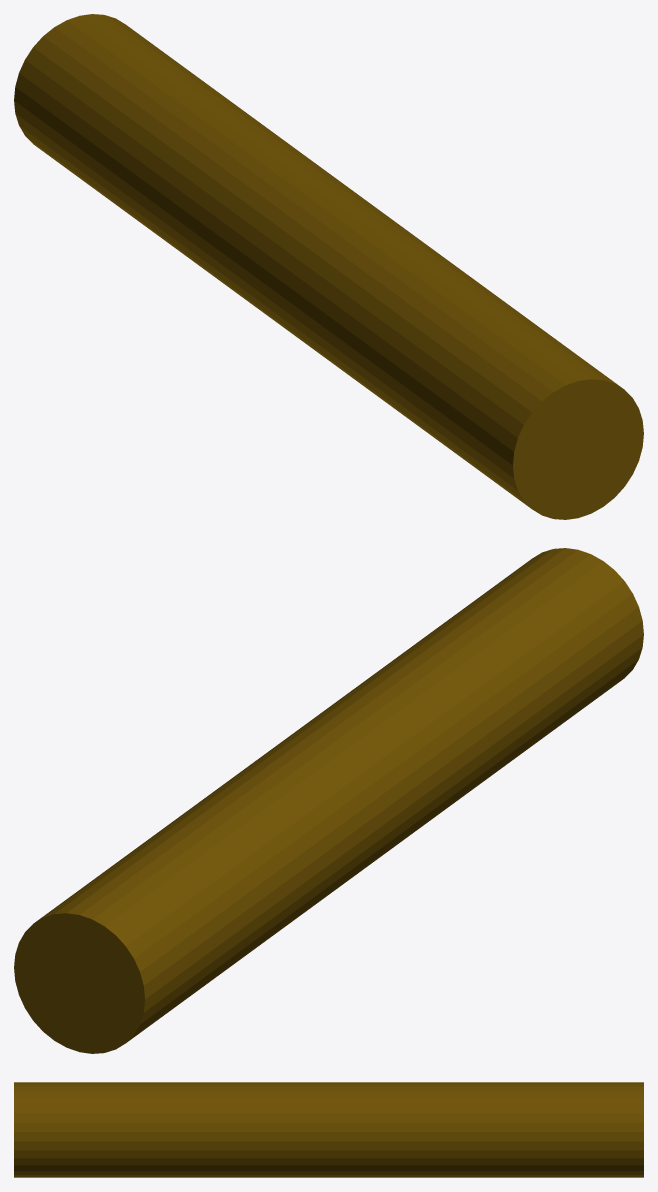
The model's file is Shotgun.glb.
3 views of the same model, one above another, from view 1: azimuth 30°, elevation 25°; view 2: azimuth 150°, elevation 25°; view 3: azimuth 270°, elevation 25° (orthographic). The views are drawn at different scales.
Parts seen in each view (by area): view 1: Cylinder; view 2: Cylinder; view 3: Cylinder.
Part boxes in pixels (x1=…): Cylinder: x1=14, y1=14, x2=643, y2=519; Cylinder: x1=14, y1=548, x2=643, y2=1053; Cylinder: x1=14, y1=1082, x2=643, y2=1177.
Size of the model in its own units: 0.1437 by 0.1437 by 0.9476.
